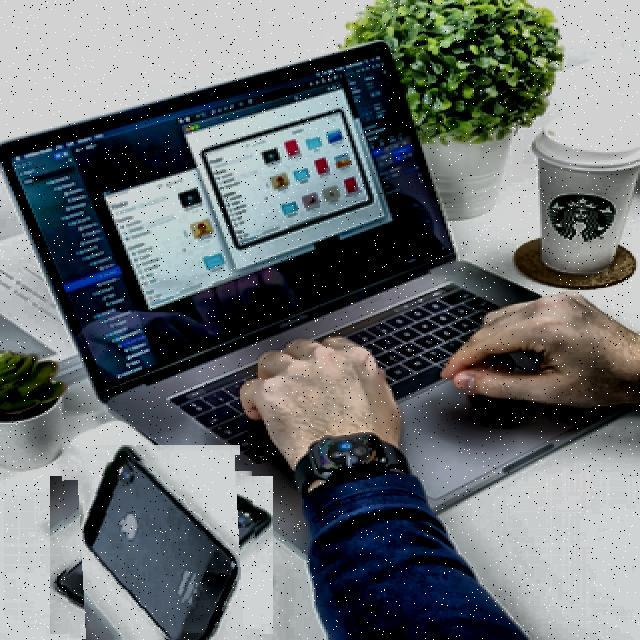Phone: (63, 457, 258, 640)
